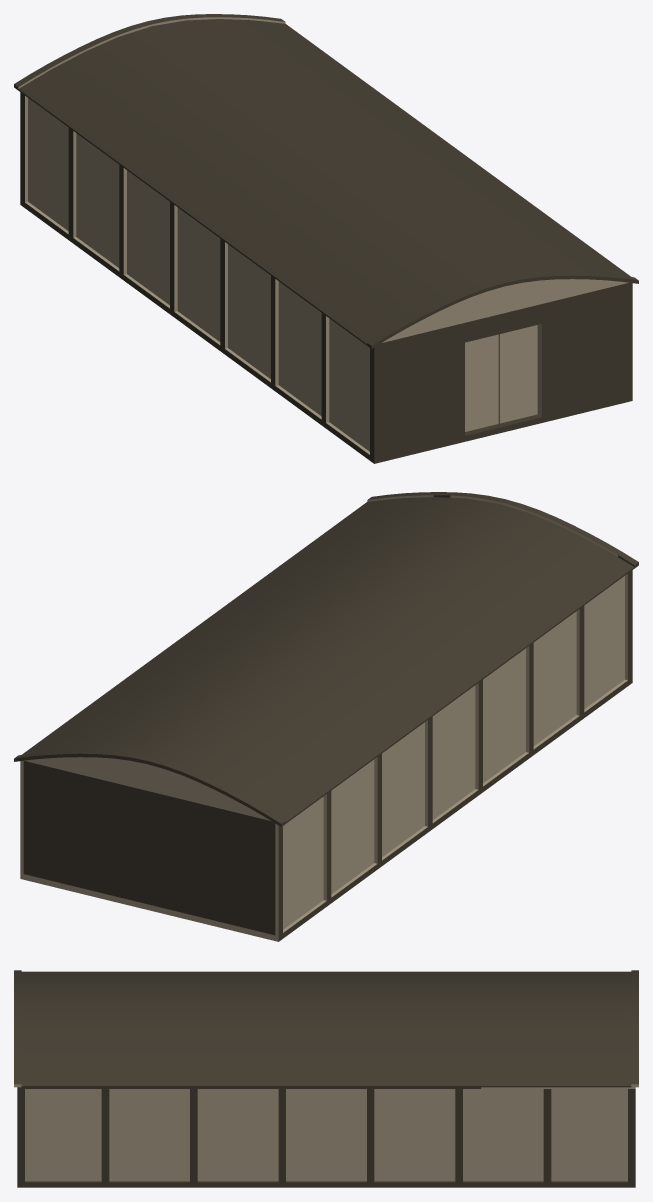
Rendered from hangar.fbx.
The picture shows the model from 3 angles, top to bottom: view 1: azimuth 30°, elevation 25°; view 2: azimuth 150°, elevation 25°; view 3: azimuth 270°, elevation 25°; orthographic projection. The views are drawn at different scales.
Parts seen in each view (by area): view 1: polySurface86; view 2: polySurface86; view 3: polySurface86.
Part boxes in pixels (x1,y1,x2,y2): polySurface86: [14, 14, 638, 463]; polySurface86: [14, 492, 638, 941]; polySurface86: [14, 970, 638, 1187].
Size of the model in its own units: 1992 by 1074 by 4615.
